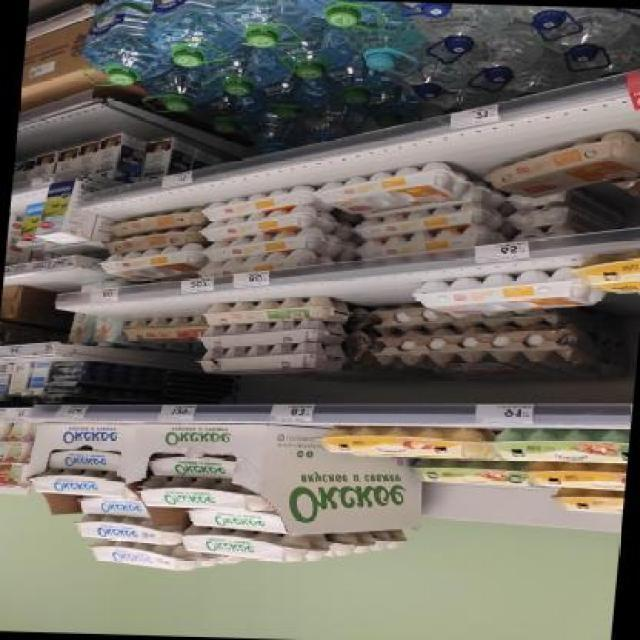egg: (482, 129, 640, 202), (416, 269, 608, 322), (70, 1, 185, 88), (310, 158, 475, 218), (129, 0, 242, 66), (314, 424, 498, 462), (456, 23, 549, 97), (539, 6, 632, 76), (411, 3, 514, 66), (200, 292, 354, 332), (490, 424, 630, 466), (210, 0, 315, 54), (180, 528, 329, 564), (28, 178, 104, 247), (194, 44, 284, 99), (265, 27, 353, 82), (336, 22, 424, 76), (139, 476, 267, 512), (407, 456, 536, 489), (522, 459, 626, 496), (292, 0, 395, 35), (84, 538, 196, 570), (73, 514, 184, 546), (137, 71, 217, 115), (88, 132, 150, 188), (504, 6, 594, 44), (573, 247, 639, 296), (31, 469, 138, 499), (119, 314, 212, 348), (547, 486, 624, 522), (142, 134, 188, 182), (186, 510, 285, 532), (148, 454, 234, 478), (388, 1, 477, 24), (47, 448, 121, 472), (77, 496, 157, 518), (630, 9, 639, 57)
